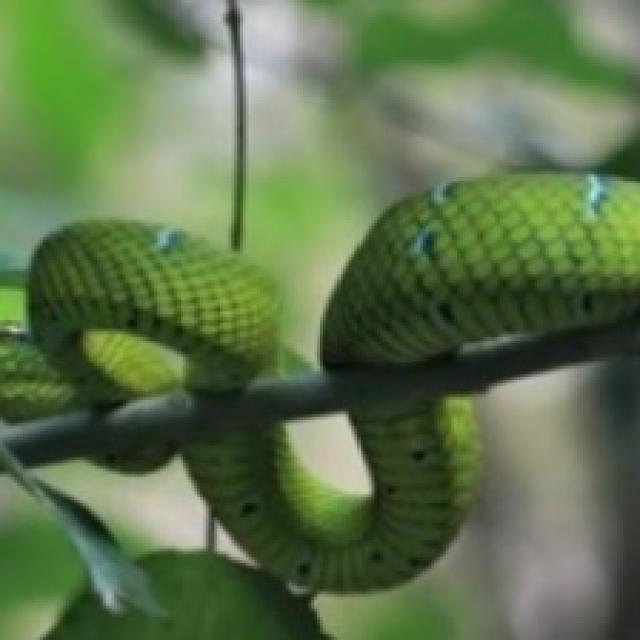north ph temple pitviper: (3, 174, 637, 591)
